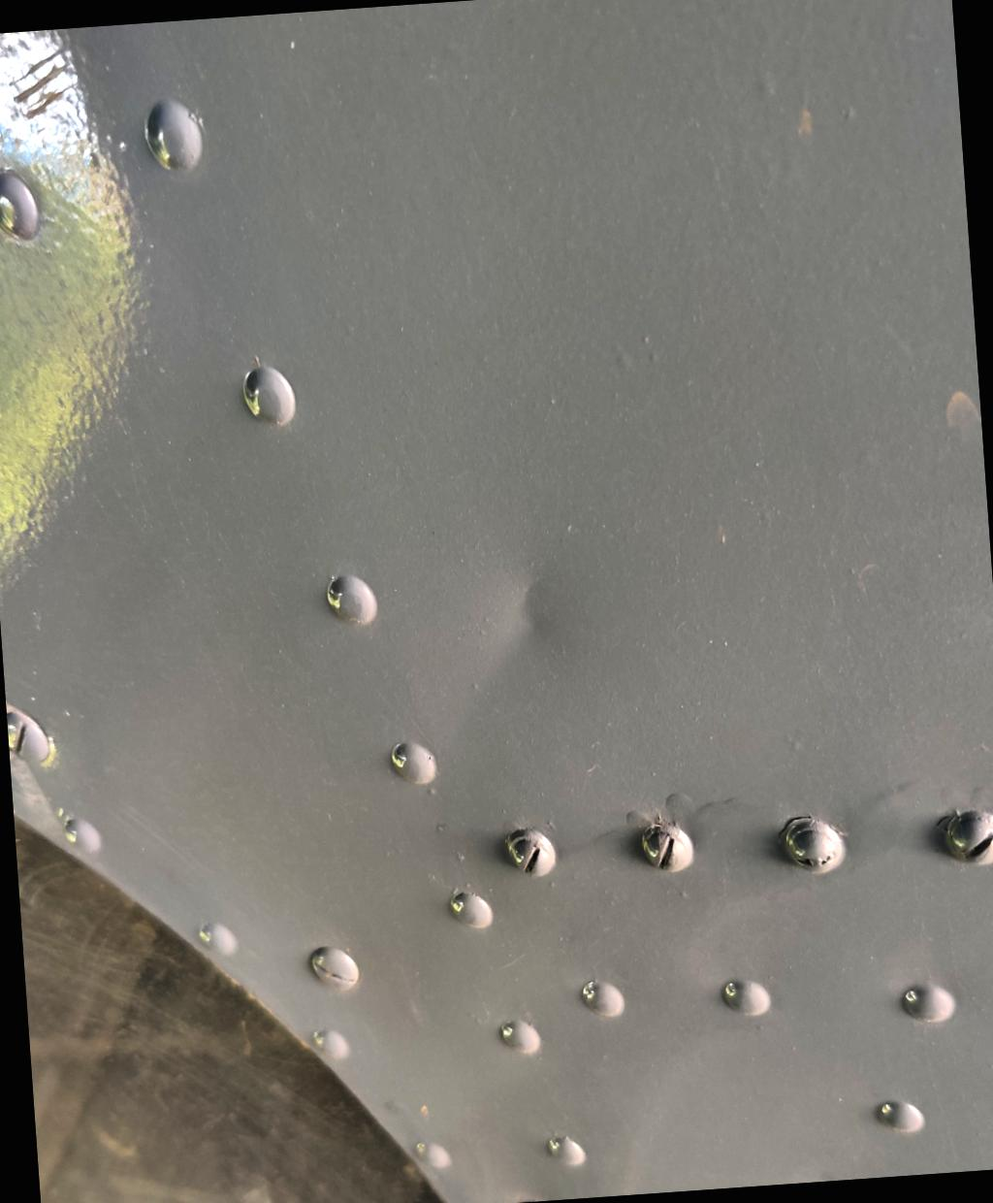dent: (468, 533, 588, 680)
